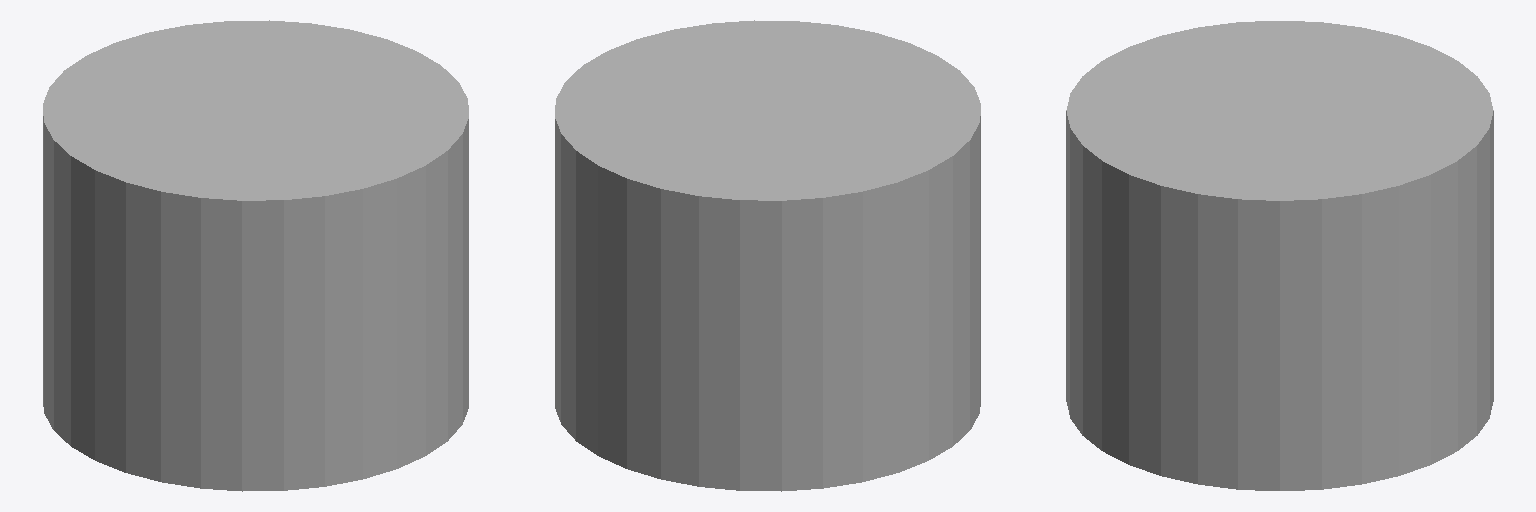
The robot description file, URDF, robot "mira":
<?xml version="1.0"?>
<robot name="mira">

    <material name="grey">
        <color rgba="0.75 0.75 0.75 1"/>
    </material>
    <material name="red">
        <color rgba="0.8 0 0 1"/>
    </material>

    <!-- * * * Link Definitions * * * -->
    <link name="base_link">
        <inertial>
            <origin xyz="0 0 0" rpy="0 0 0"/>
            <mass value="0.18" />
            <inertia ixx="0.0002835" ixy="0.0" ixz="0.0" iyy="0.0002835" iyz="0.0" izz="0.000324"/>
        </inertial>

        <collision>
            <origin xyz="0 0 0" rpy="0 0 0"/>
            <geometry>
                <cylinder radius="0.06" length="0.09"/>
            </geometry>
        </collision>

        <visual>
            <origin rpy="0 0 0" xyz="0 0 0"/>
            <geometry>
                <cylinder radius="0.06" length="0.09"/>
            </geometry>
            <material name="grey"/>
        </visual>
    </link>  

    <gazebo reference="base_link">
        <kp>100000.0</kp>
        <kd>100000.0</kd>
        <mu1>10.0</mu1>
        <mu2>10.0</mu2>
        <material>Gazebo/Grey</material>
    </gazebo>

    <link name="roll_M1_link">
        <!-- Inertial for gazebo to take it into account, Put 1gr weight -->
        <inertial>
            <origin xyz="0 0 0" rpy="0 0 0"/>
            <mass value="0.001" />
            <inertia ixx="2.70833333333e-08" ixy="0.0" ixz="0.0" iyy="2.70833333333e-08" iyz="0.0" izz="5e-08"/>
        </inertial>
        <visual>
            <origin rpy="0 0 0" xyz="0 0 0"/>
            <geometry>
                <cylinder length="0.005" radius="0.01"/>
            </geometry>
            <material name="red"/>
        </visual>
    </link>

    <gazebo reference="roll_M1_link">
        <kp>1000.0</kp>
        <kd>10.0</kd>
        <mu1>10.0</mu1>
        <mu2>10.0</mu2>
        <material>Gazebo/Red</material>
    </gazebo>

    <joint name="roll_joint" type="revolute">
        <parent link="base_link"/>
        <child link="roll_M1_link"/>
        <origin xyz="0.0023 0 -0.0005" rpy="0 0 0"/>
        <limit lower="-0.2" upper="0.2" effort="0.1" velocity="0.005"/>
        <axis xyz="1 0 0"/>
    </joint>

</robot>

--- What the picture shows (computed from the rendered views, not written in the file) ---
3 views of the same robot in one strip: view 1: azimuth 30°, elevation 25°; view 2: azimuth 150°, elevation 25°; view 3: azimuth 270°, elevation 25° (orthographic).
Robot: mira — 2 links, 1 joints (1 revolute); root link base_link; default pose: every joint at zero.
Links seen in each view (by area): view 1: base_link; view 2: base_link; view 3: base_link.
Link boxes in pixels (x1,y1,x2,y2): base_link: [43, 20, 468, 491]; base_link: [555, 20, 980, 491]; base_link: [1066, 21, 1493, 490].
Size in the robot's own frame: 0.12 by 0.12 by 0.09 metres.
Geometry: primitives only (box / cylinder / sphere), no mesh files.
